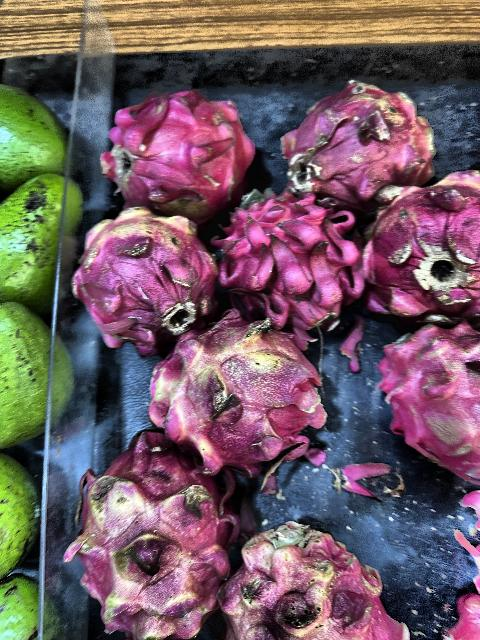buah-naga-belum-matang: (70, 436, 226, 632), (144, 316, 324, 466), (220, 524, 412, 640), (80, 214, 222, 340), (366, 168, 480, 324), (278, 82, 438, 192)
buah-naga-matang: (217, 182, 365, 332), (376, 312, 480, 490), (101, 92, 250, 212)
